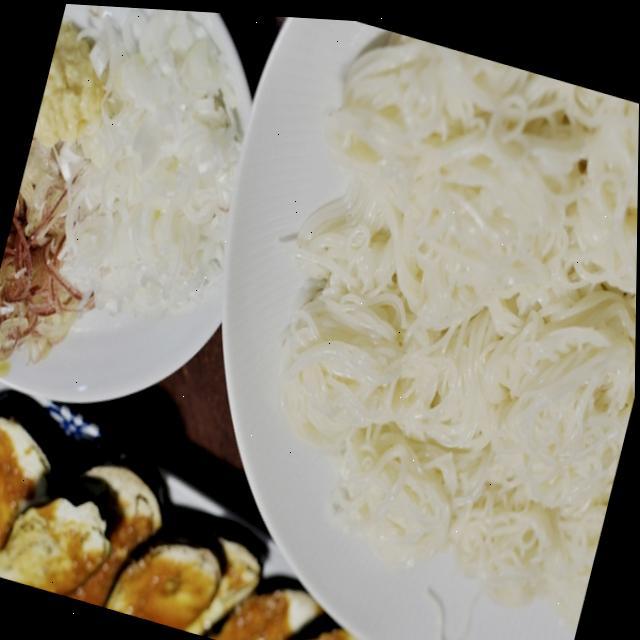面条主食: (160, 17, 640, 640)
